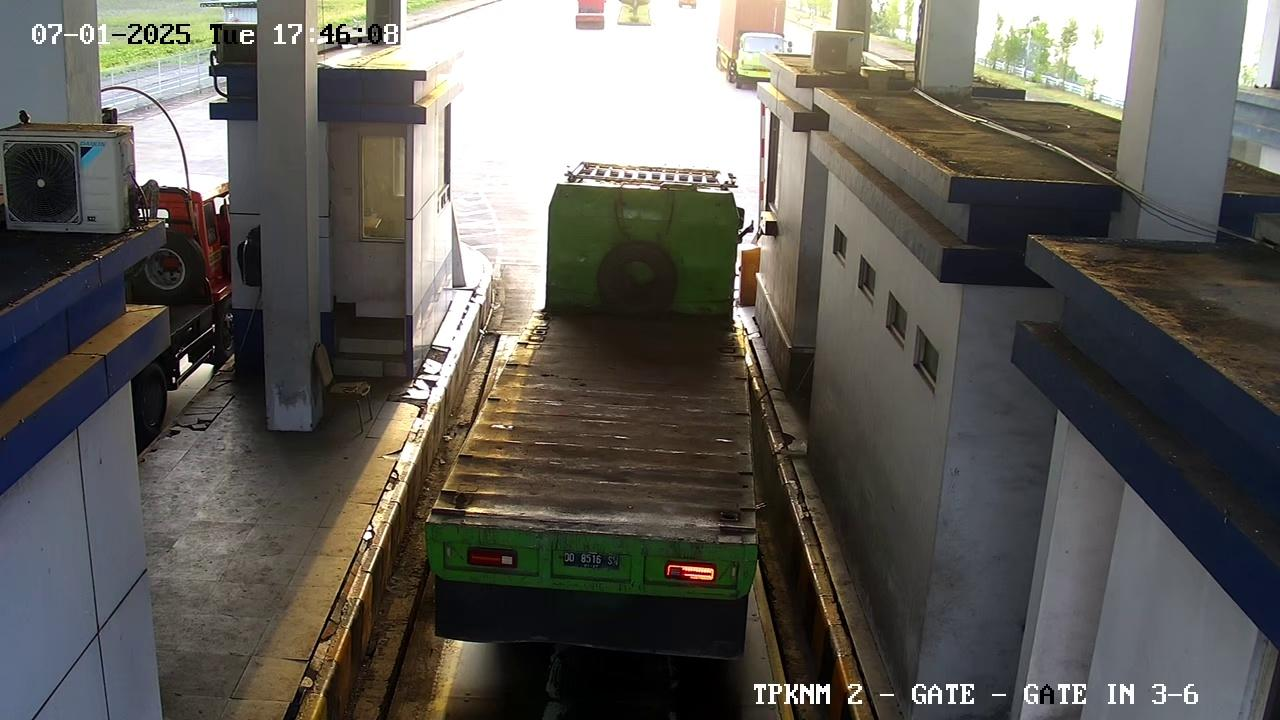plate_number: (549, 542, 633, 581)
